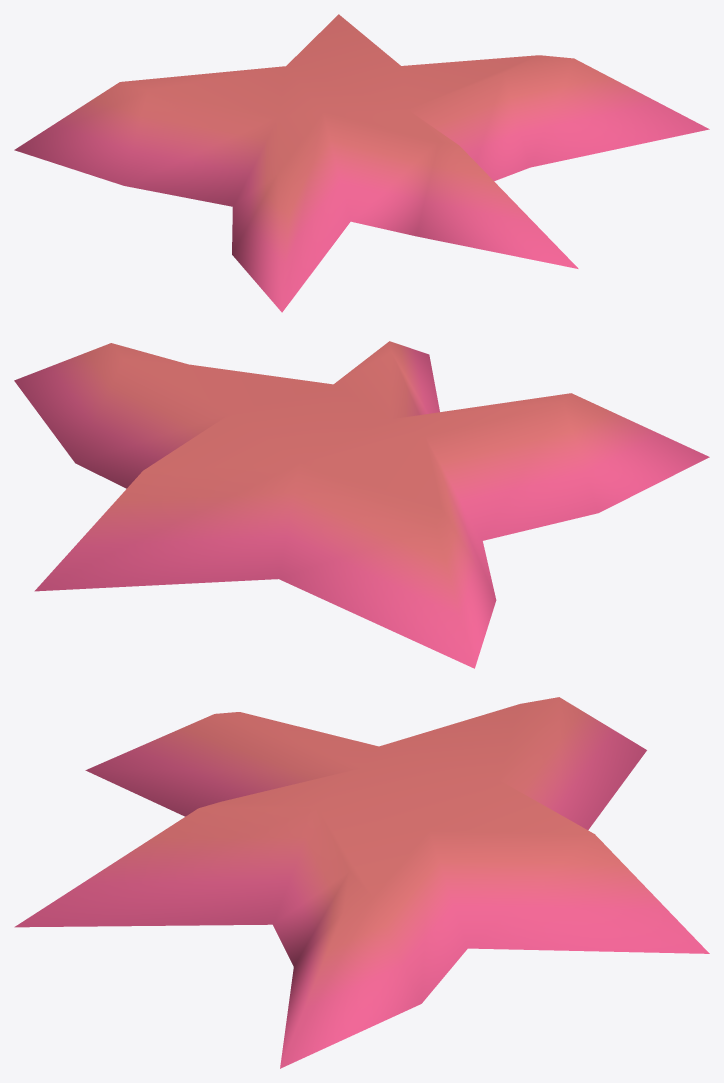
The model's file is M_haixing01.FBX.
3 renders of one model, top to bottom at view 1: azimuth 30°, elevation 25°; view 2: azimuth 150°, elevation 25°; view 3: azimuth 270°, elevation 25°, orthographic. The views are drawn at different scales.
Parts seen in each view (by area): view 1: M_haixing01; view 2: M_haixing01; view 3: M_haixing01.
Boxes of the visible parts, x1,y1,x2,y2 form: M_haixing01: (14, 14, 709, 312); M_haixing01: (14, 341, 709, 668); M_haixing01: (14, 697, 709, 1068).
Size of the model in its own units: 0.5598 by 0.0768 by 0.5166.
